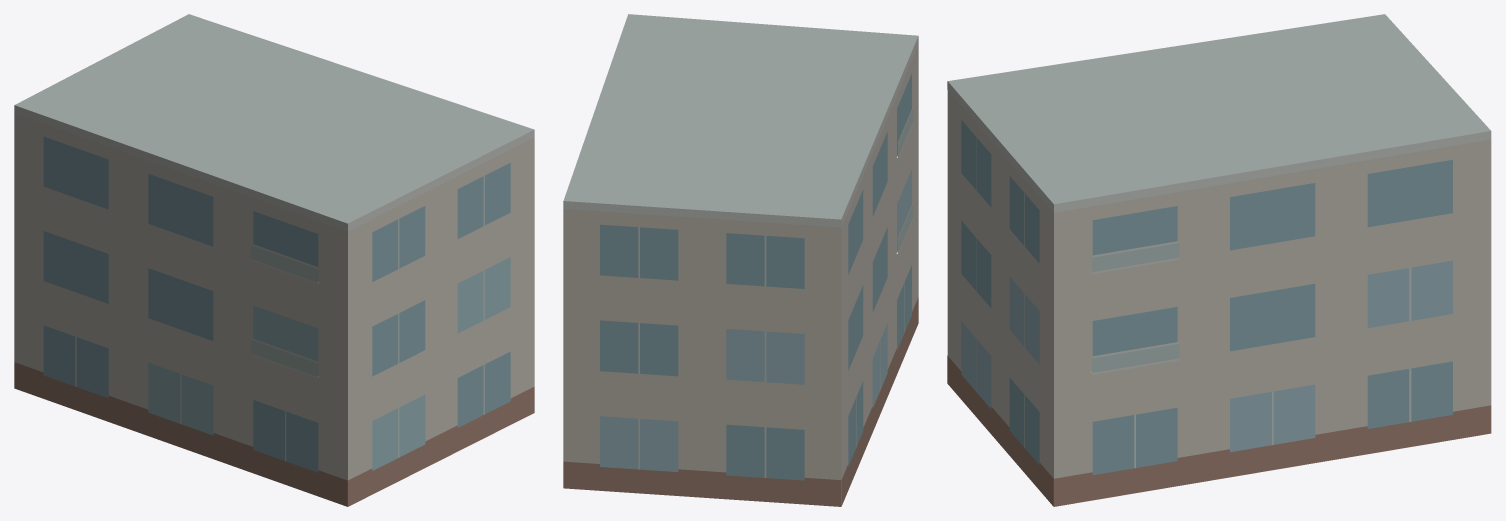
The model's file is survey-upis-32947735.glb.
3 views of the same model, side by side, from view 1: azimuth 30°, elevation 25°; view 2: azimuth 150°, elevation 25°; view 3: azimuth 270°, elevation 25° (orthographic). The views are drawn at different scales.
Parts seen in each view (by area): view 1: survey-upis-32947735.tmp; view 2: survey-upis-32947735.tmp; view 3: survey-upis-32947735.tmp.
Boxes of the visible parts, x1=… form: survey-upis-32947735.tmp: x1=14, y1=14, x2=534, y2=506; survey-upis-32947735.tmp: x1=563, y1=14, x2=918, y2=506; survey-upis-32947735.tmp: x1=947, y1=14, x2=1491, y2=506.
Bounding box in the file's own units: 11.81 × 8.75 × 14.26.
